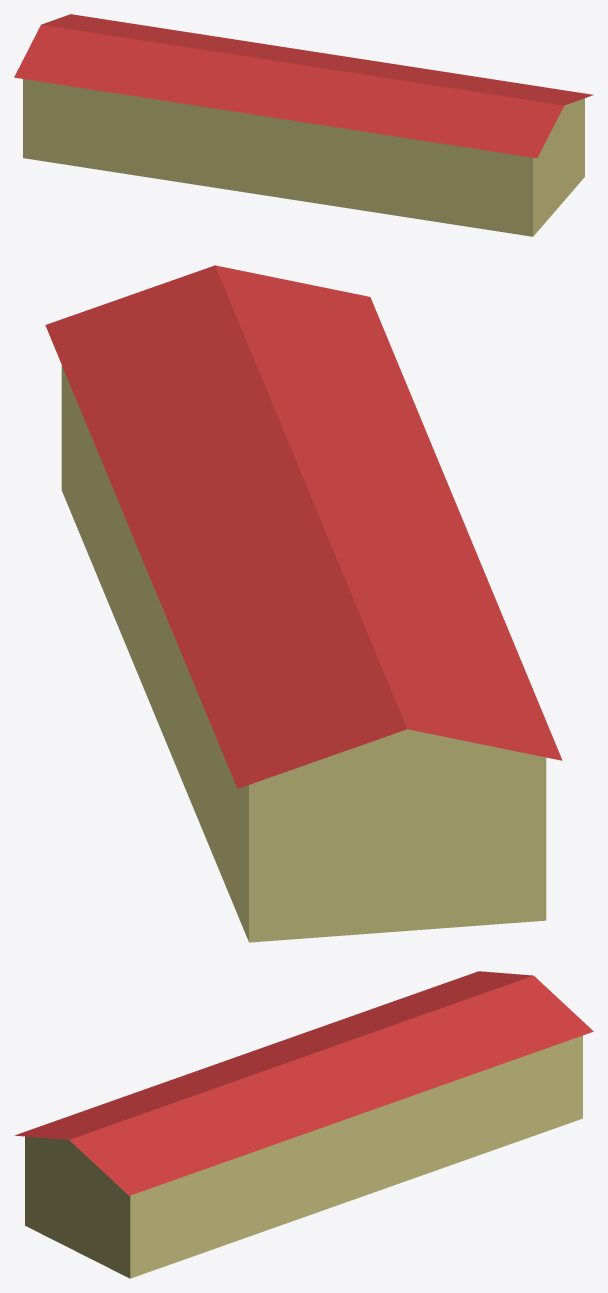
3 renders of one model, top to bottom at view 1: azimuth 30°, elevation 25°; view 2: azimuth 150°, elevation 25°; view 3: azimuth 270°, elevation 25°, orthographic. The views are drawn at different scales.
Bounding box in the file's own units: 51.01 × 56.16 × 12.08.
